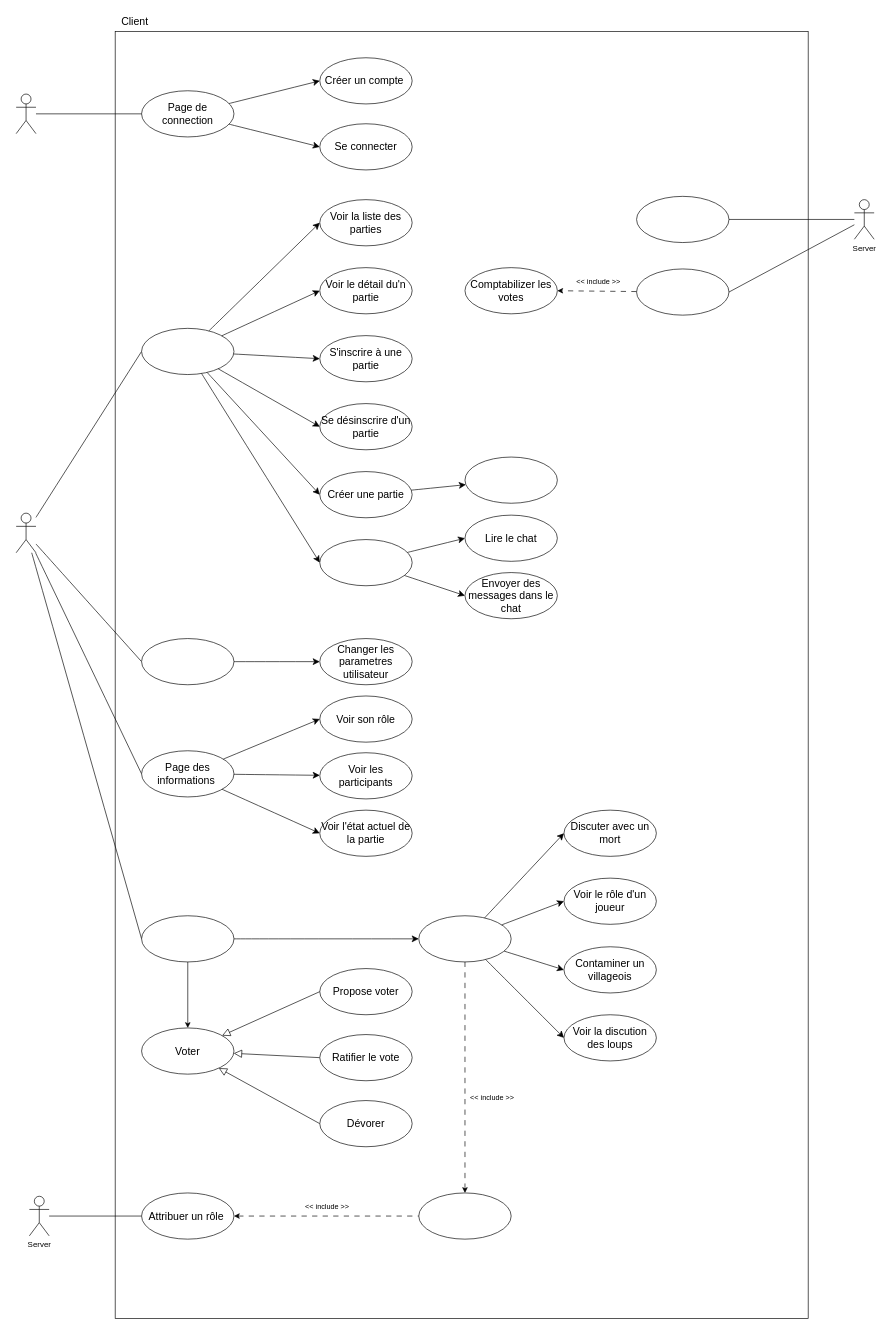
The diagram is 887 pixels wide and 1330 high, and some of its shapes have lost their labels. The box of each missing label's shape, as (x1, y1, x2, y2) in pixels:
Alterner nuit et jour: (636, 196, 729, 243)
Changer les paramètres: (464, 456, 557, 503)
Eliminer un villageoi: (636, 268, 729, 315)
Faire l'action de son pouvoir: (418, 915, 511, 962)
Page des paramètres: (141, 638, 234, 685)
Page des parties: (141, 328, 234, 375)
Page du jeux: (141, 915, 234, 962)
Partie discution: (319, 539, 412, 586)
Player: (16, 512, 36, 553)
Tirer au sort un pouvoir: (418, 1192, 511, 1239)
User: (16, 93, 36, 134)
